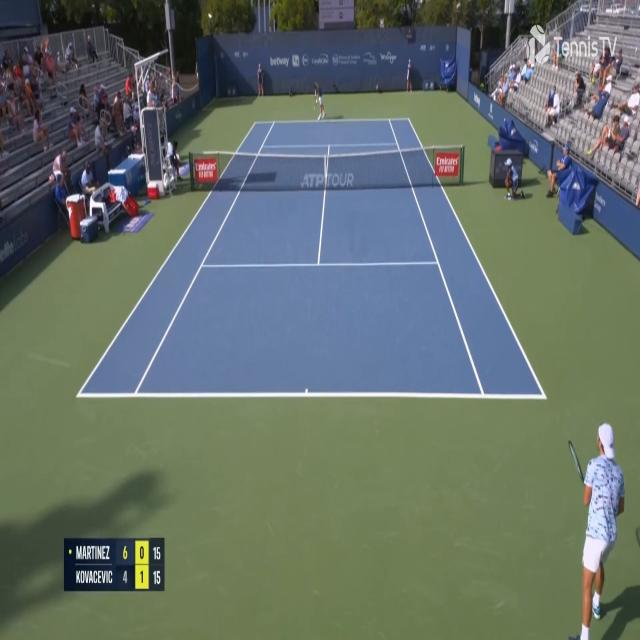tennis-player: (566, 416, 628, 638), (312, 80, 326, 122)
